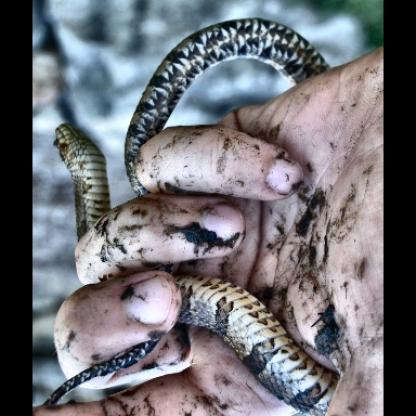Snake: (53, 10, 358, 413)
